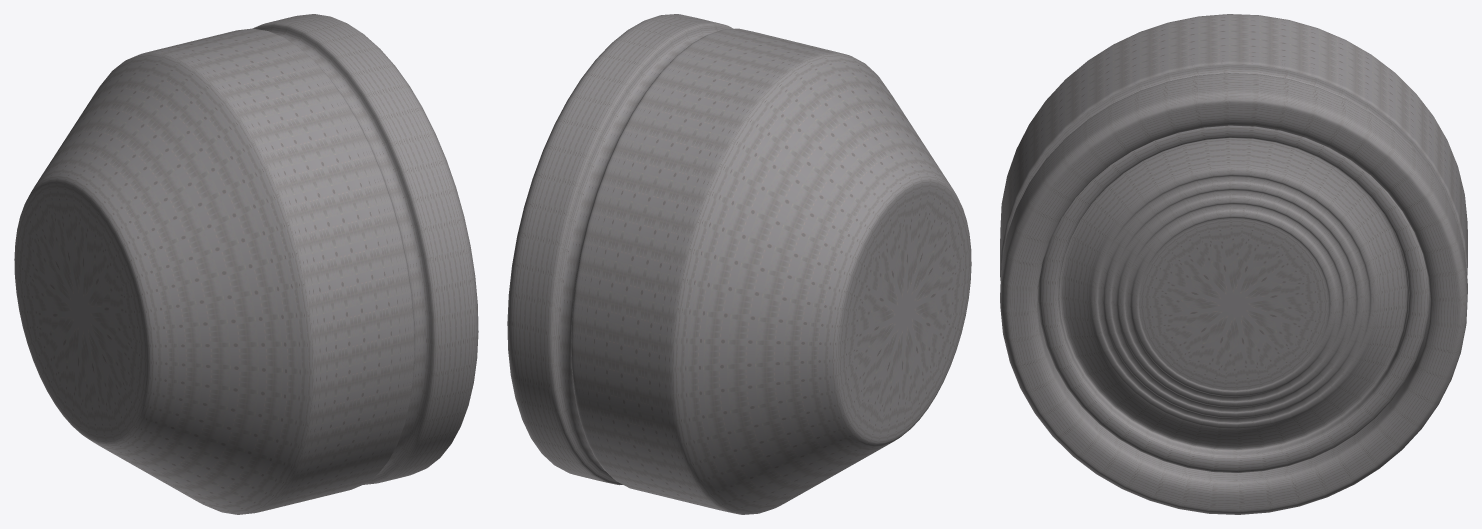
The picture shows the model from 3 angles, left to right: view 1: azimuth 30°, elevation 25°; view 2: azimuth 150°, elevation 25°; view 3: azimuth 270°, elevation 25°; orthographic projection.
Visible parts, largest first — view 1: Cylinder.403; view 2: Cylinder.403; view 3: Cylinder.403.
Boxes of the visible parts, <box> form: Cylinder.403: <box>14,14,478,514</box>; Cylinder.403: <box>507,14,971,514</box>; Cylinder.403: <box>1000,14,1467,514</box>.
Bounding box in the file's own units: 0.617 × 0.8937 × 0.8937.
Materials: 1 (1 with a texture image).
